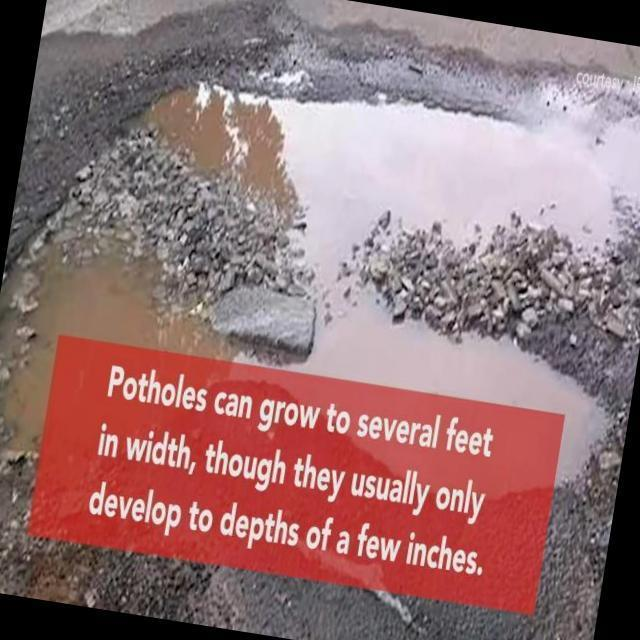Pothole: (0, 89, 640, 459)
